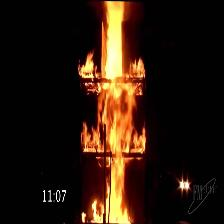fire: (93, 1, 134, 223)
